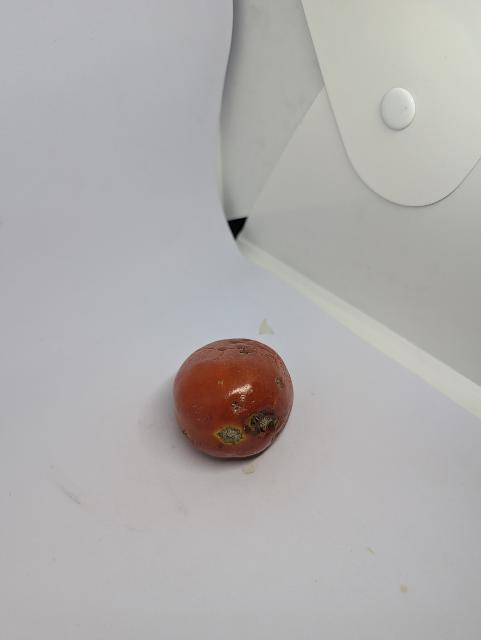defect: (169, 336, 300, 463)
